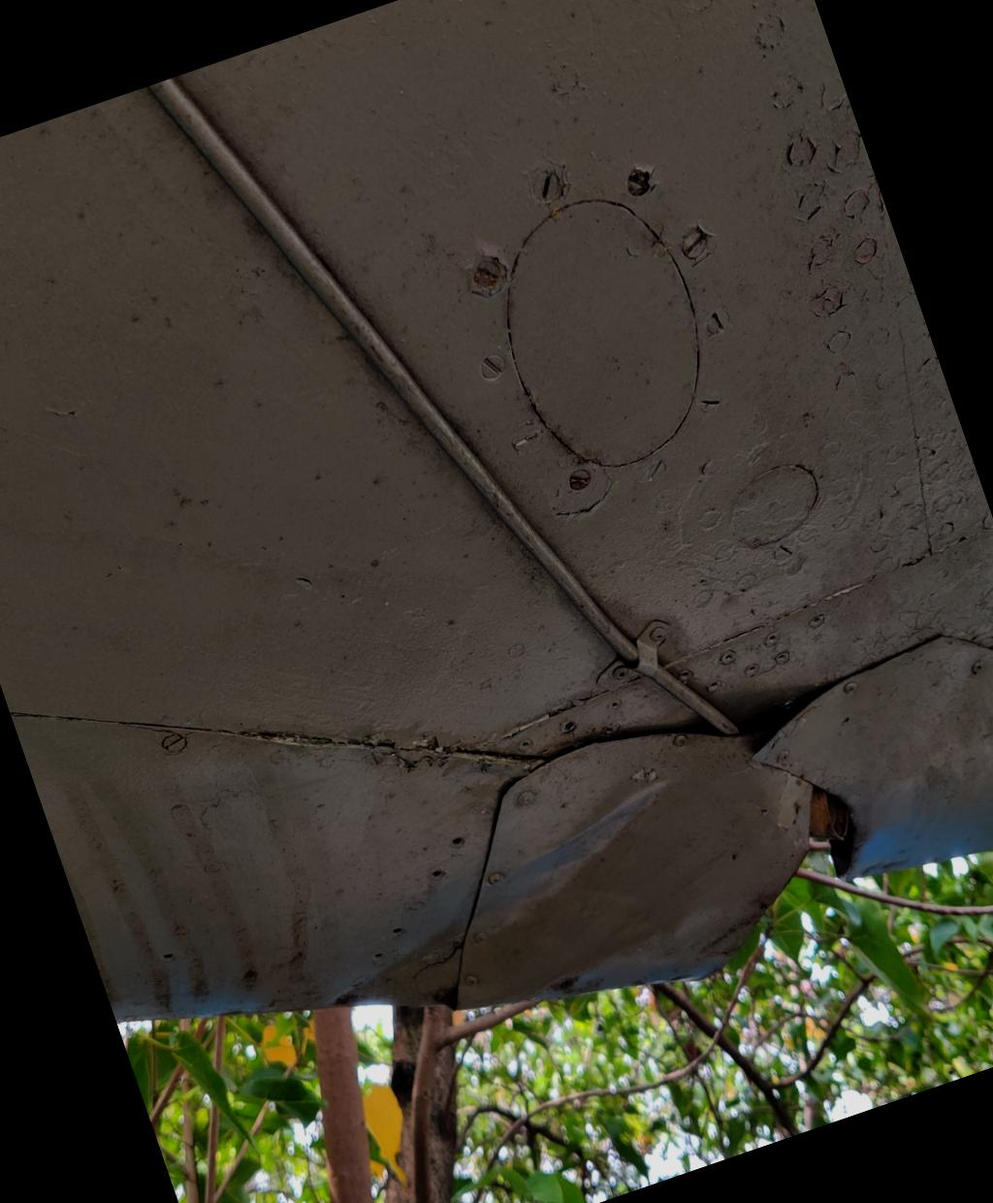dent: (265, 735, 784, 1134)
